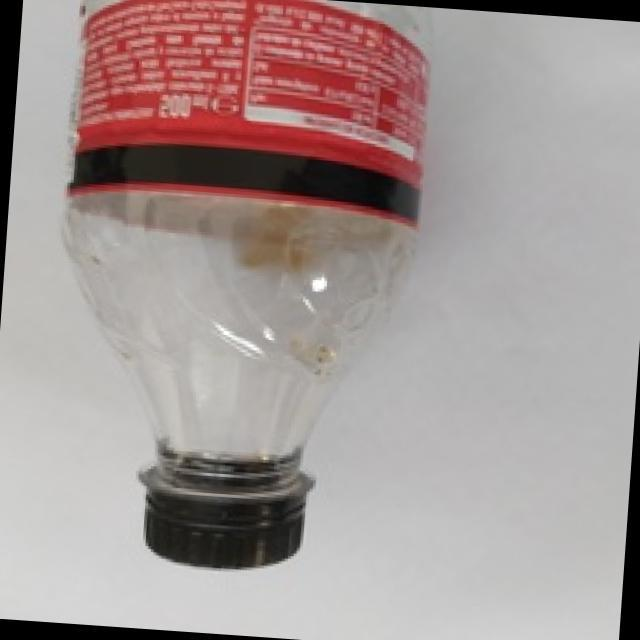good: (24, 0, 450, 607)
